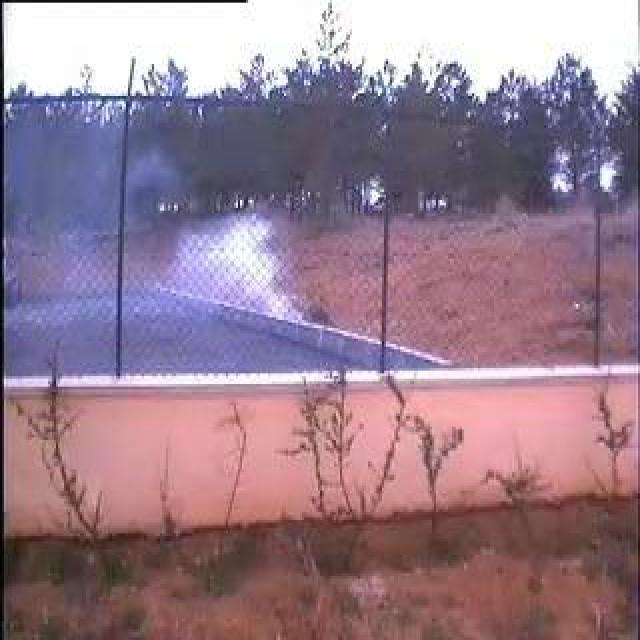Smoke: (129, 194, 303, 362)
